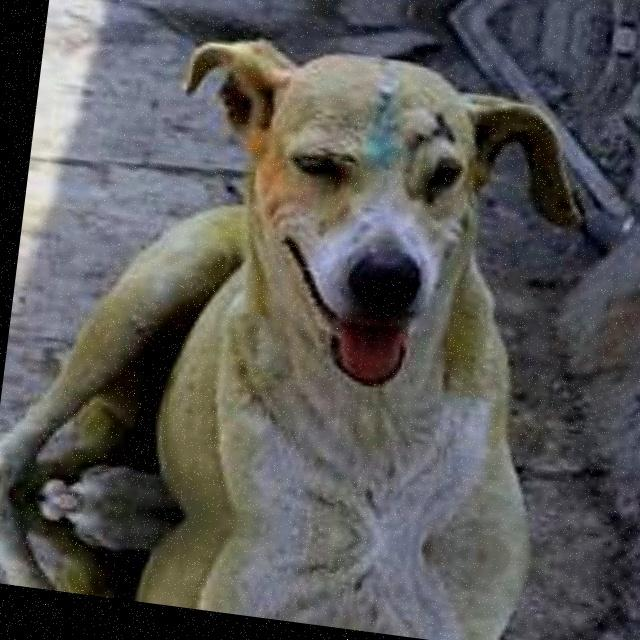dog: (53, 25, 620, 567), (42, 500, 562, 640)
